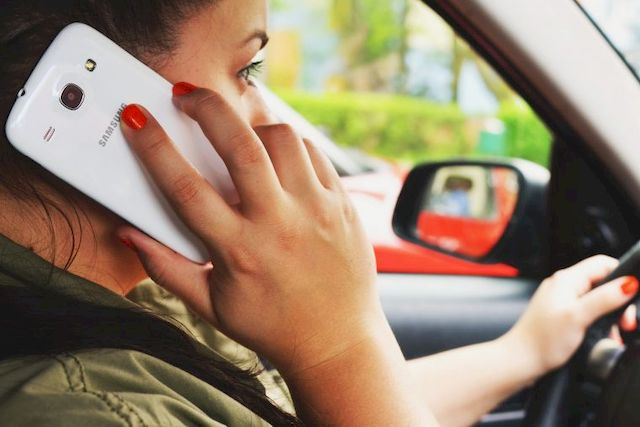phone: (38, 33, 280, 274)
talk: (19, 13, 377, 378)
